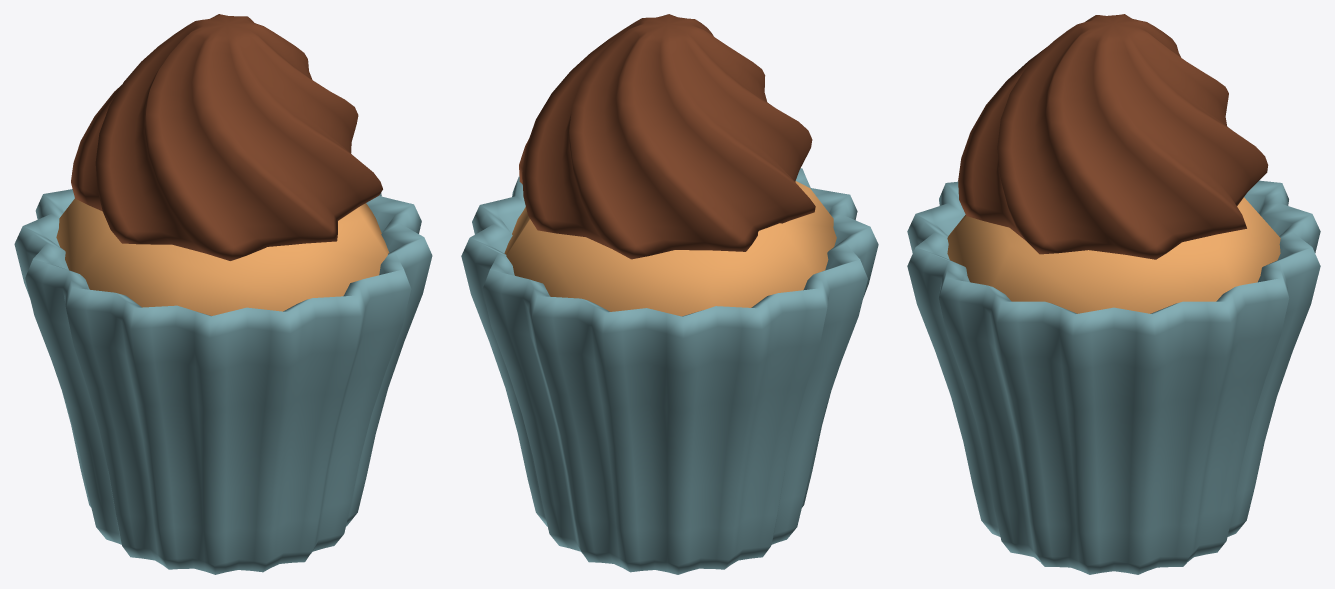
The model's file is SM_muffin_03.glb.
3 views of the same model, side by side, from view 1: azimuth 30°, elevation 25°; view 2: azimuth 150°, elevation 25°; view 3: azimuth 270°, elevation 25° (orthographic).
Visible parts, largest first — view 1: SM_muffin_03; view 2: SM_muffin_03; view 3: SM_muffin_03.
Boxes of the visible parts, x1,y1,x2,y2 form: SM_muffin_03: [14, 14, 432, 574]; SM_muffin_03: [461, 14, 878, 574]; SM_muffin_03: [907, 14, 1320, 574].
Size of the model in its own units: 0.1335 by 0.1794 by 0.1335.
Materials: 1 (1 with a texture image).
